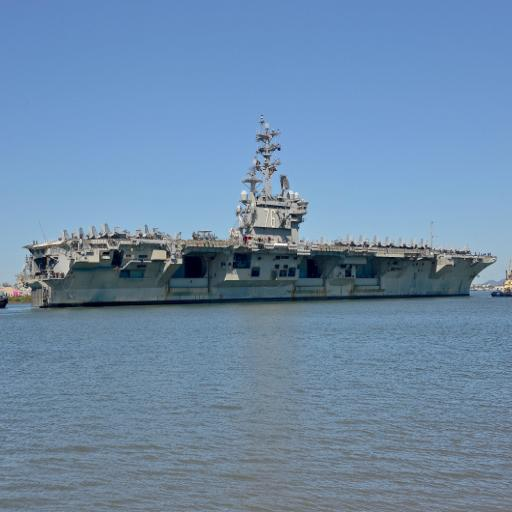Portanaves: (24, 110, 499, 315)
